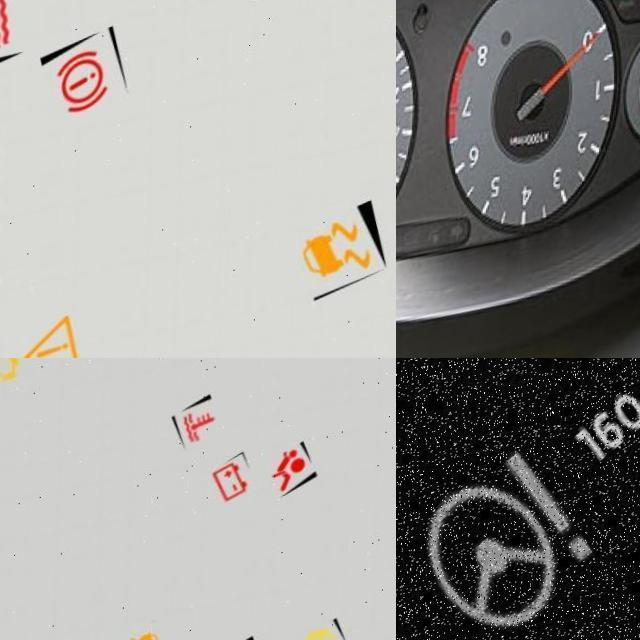Electronic Power Steering: (396, 437, 609, 640)
